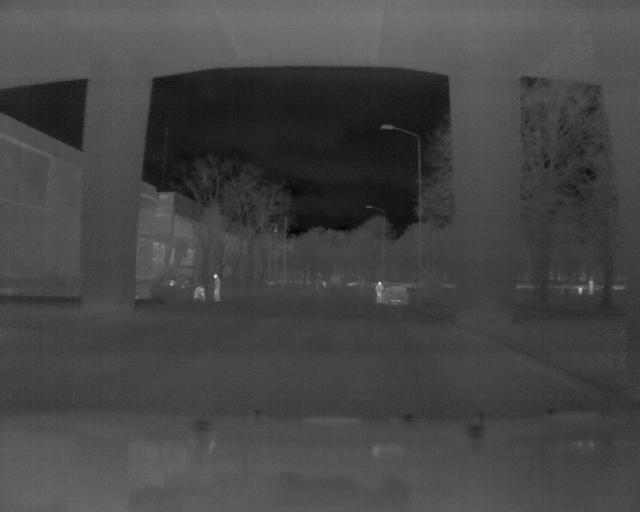car: (380, 284, 413, 307)
person: (191, 284, 205, 303), (212, 273, 220, 306), (376, 280, 382, 305)
